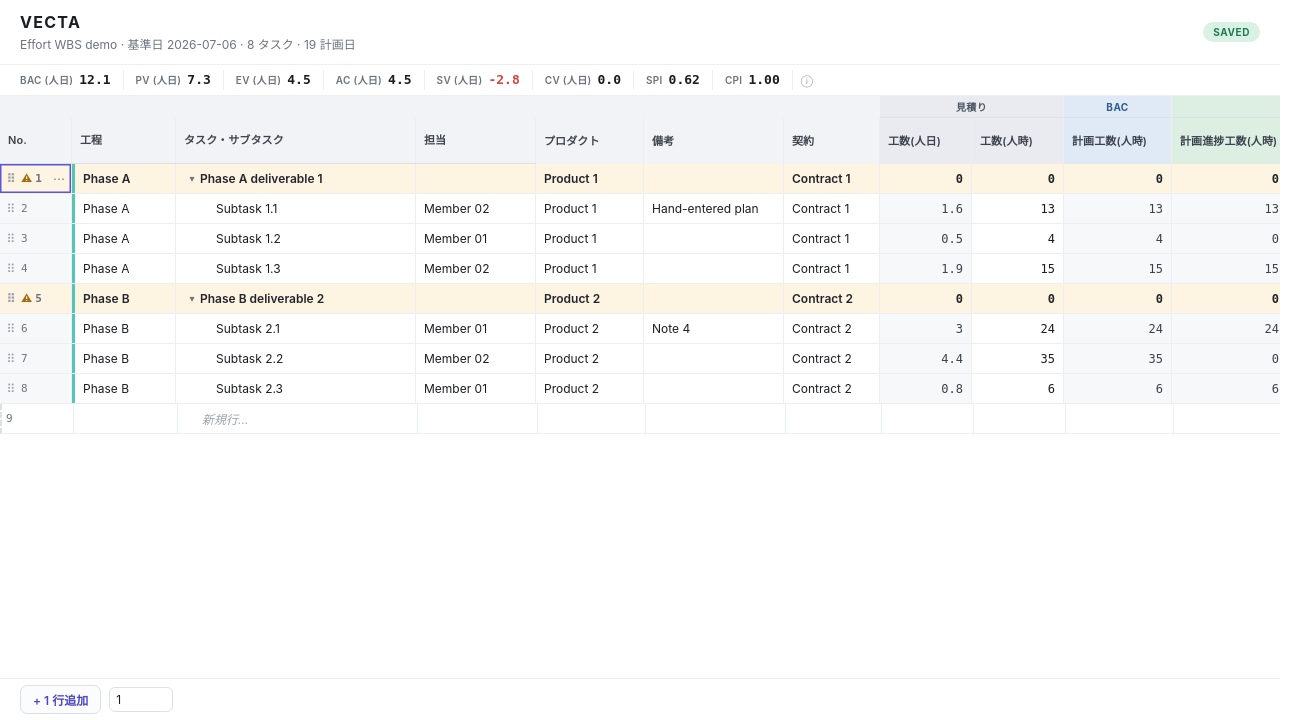
Scenario: App tree grid (§C-1) › creates a child task from a subtask draft opened via the row ⋯ menu (§C-5)
Expected: the cell "▾ Phase A deliverable 1" is shown, [176, 164, 416, 193]
Expected: the text with test id "save-state" reads "saved", [1213, 26, 1250, 38]
Step 1. Click the button "⋯" → [59, 178], box [51, 169, 67, 187]
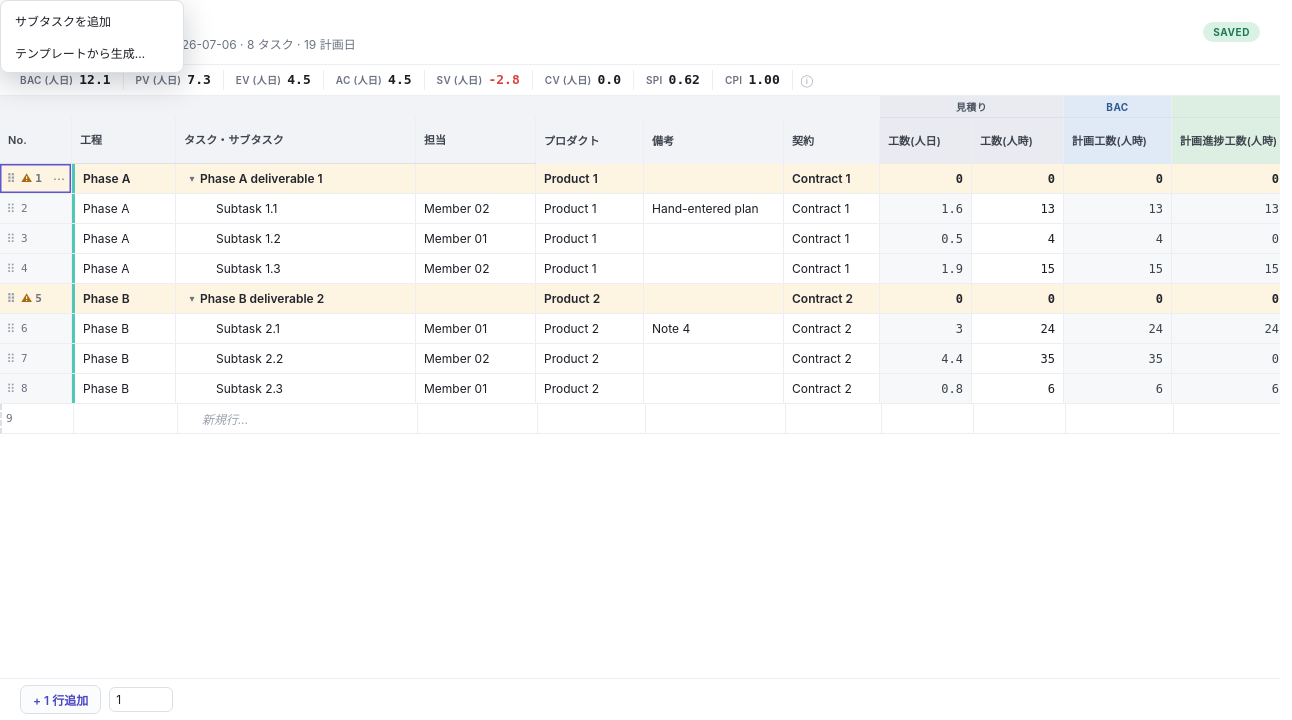
Step 2. Click the menu item with test id "row-menu-add-subtask" → [92, 20], box [5, 5, 179, 36]
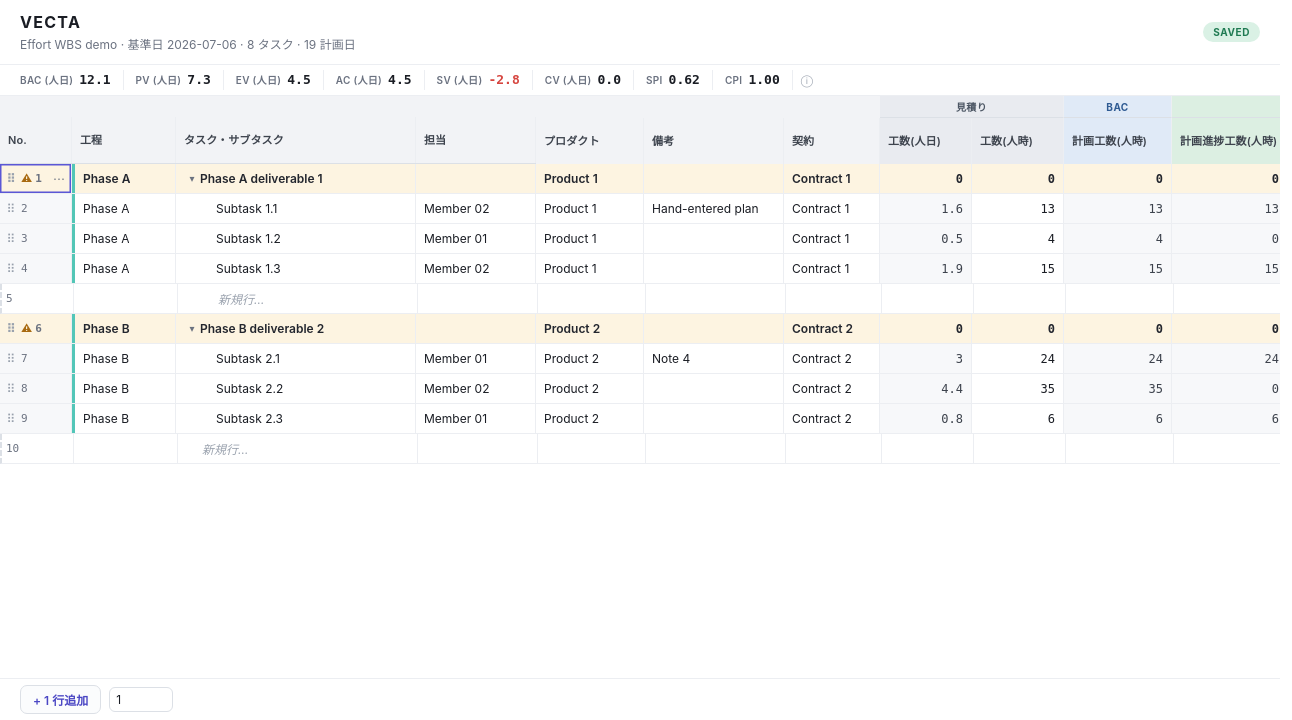
Step 3. Double-click the 1st cell "新規行…" → [298, 298], box [178, 284, 418, 313]
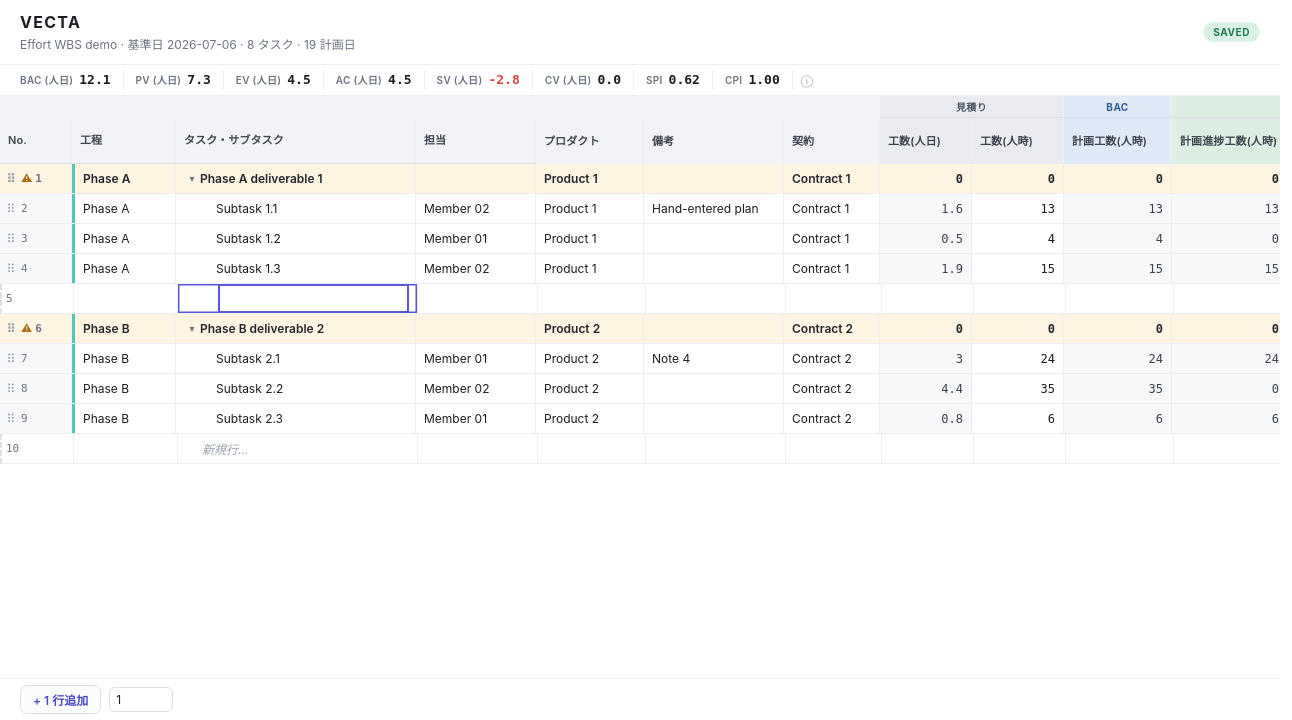
Step 4. Type "New child" into the field with class "cell-editor" → [314, 298], box [218, 284, 409, 313]
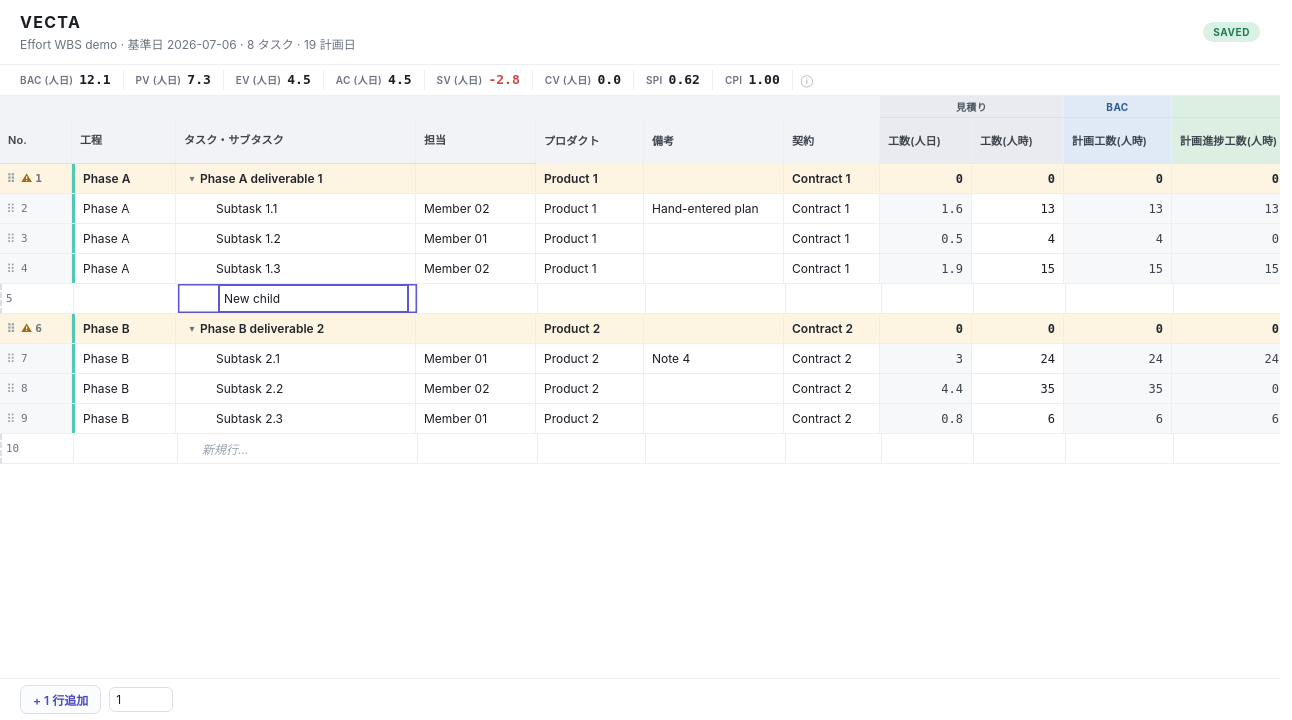
Step 5. Leave the field with class "cell-editor", box [218, 284, 409, 313]
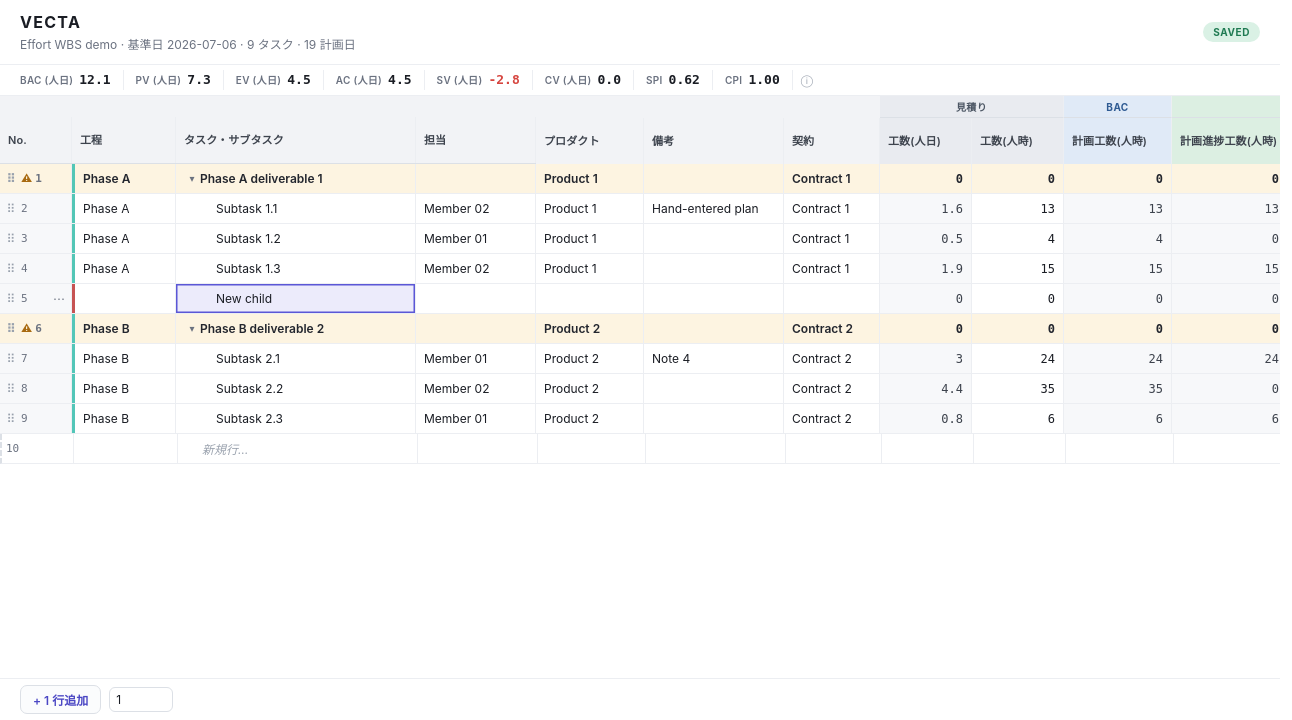
Result: the text "New child" is shown at [216, 291, 272, 306]
